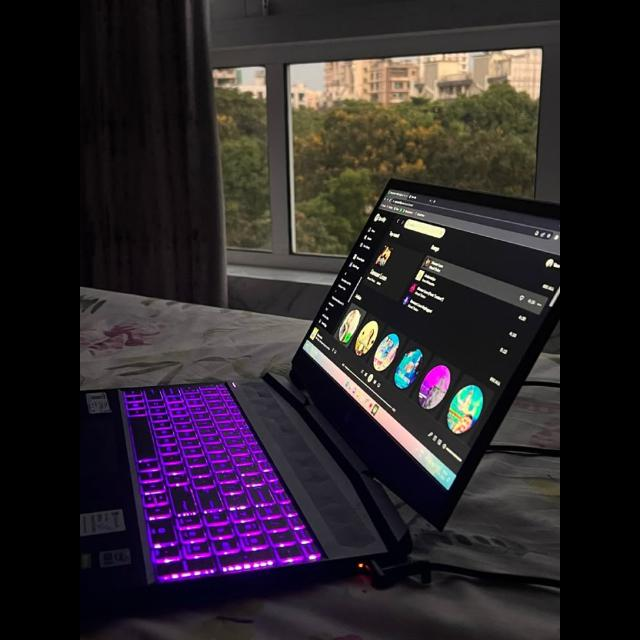laptop: (80, 179, 560, 596)
